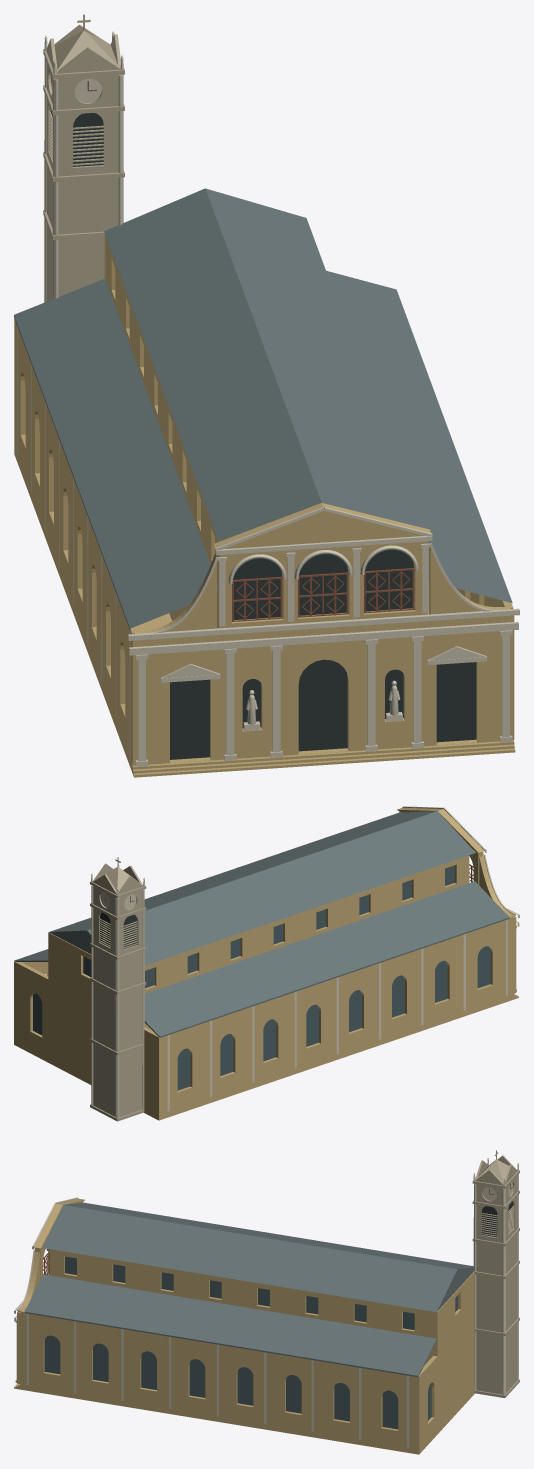
Rendered from eglise-saint-pierre-saint-paul-pointe-a-pitre-near.glb.
3 renders of one model, top to bottom at view 1: azimuth 30°, elevation 25°; view 2: azimuth 150°, elevation 25°; view 3: azimuth 270°, elevation 25°, orthographic. The views are drawn at different scales.
Parts seen in each view (by area): view 1: eglise-saint-pierre-saint-paul-pointe-a-pitre-0-roof, eglise-saint-pierre-saint-paul-pointe-a-pitre-0-plaster, eglise-saint-pierre-saint-paul-pointe-a-pitre-0-trim, eglise-saint-pierre-saint-paul-pointe-a-pitre-0-shadow, eglise-saint-pierre-saint-paul-pointe-a-pitre-0-metal, eglise-saint-pierre-saint-paul-pointe-a-pitre-0-wood; view 2: eglise-saint-pierre-saint-paul-pointe-a-pitre-0-plaster, eglise-saint-pierre-saint-paul-pointe-a-pitre-0-roof, eglise-saint-pierre-saint-paul-pointe-a-pitre-0-metal, eglise-saint-pierre-saint-paul-pointe-a-pitre-0-glass, eglise-saint-pierre-saint-paul-pointe-a-pitre-0-trim, eglise-saint-pierre-saint-paul-pointe-a-pitre-0-shadow; view 3: eglise-saint-pierre-saint-paul-pointe-a-pitre-0-plaster, eglise-saint-pierre-saint-paul-pointe-a-pitre-0-roof, eglise-saint-pierre-saint-paul-pointe-a-pitre-0-metal, eglise-saint-pierre-saint-paul-pointe-a-pitre-0-glass, eglise-saint-pierre-saint-paul-pointe-a-pitre-0-trim, eglise-saint-pierre-saint-paul-pointe-a-pitre-0-shadow.
Part boxes in pixels (left/top/right/bottom): eglise-saint-pierre-saint-paul-pointe-a-pitre-0-roof: left=14, top=188, right=512, bottom=630; eglise-saint-pierre-saint-paul-pointe-a-pitre-0-plaster: left=14, top=217, right=515, bottom=777; eglise-saint-pierre-saint-paul-pointe-a-pitre-0-trim: left=17, top=31, right=519, bottom=766; eglise-saint-pierre-saint-paul-pointe-a-pitre-0-shadow: left=50, top=110, right=476, bottom=759; eglise-saint-pierre-saint-paul-pointe-a-pitre-0-metal: left=43, top=14, right=124, bottom=301; eglise-saint-pierre-saint-paul-pointe-a-pitre-0-wood: left=51, top=75, right=414, bottom=621; eglise-saint-pierre-saint-paul-pointe-a-pitre-0-plaster: left=14, top=807, right=518, bottom=1120; eglise-saint-pierre-saint-paul-pointe-a-pitre-0-roof: left=14, top=811, right=509, bottom=1037; eglise-saint-pierre-saint-paul-pointe-a-pitre-0-metal: left=90, top=857, right=146, bottom=1121; eglise-saint-pierre-saint-paul-pointe-a-pitre-0-glass: left=33, top=865, right=490, bottom=1090; eglise-saint-pierre-saint-paul-pointe-a-pitre-0-trim: left=91, top=806, right=519, bottom=1118; eglise-saint-pierre-saint-paul-pointe-a-pitre-0-shadow: left=100, top=912, right=137, bottom=948; eglise-saint-pierre-saint-paul-pointe-a-pitre-0-plaster: left=14, top=1198, right=474, bottom=1454; eglise-saint-pierre-saint-paul-pointe-a-pitre-0-roof: left=24, top=1202, right=474, bottom=1377; eglise-saint-pierre-saint-paul-pointe-a-pitre-0-metal: left=472, top=1150, right=519, bottom=1397; eglise-saint-pierre-saint-paul-pointe-a-pitre-0-glass: left=44, top=1256, right=458, bottom=1429; eglise-saint-pierre-saint-paul-pointe-a-pitre-0-trim: left=14, top=1158, right=519, bottom=1447; eglise-saint-pierre-saint-paul-pointe-a-pitre-0-shadow: left=481, top=1201, right=513, bottom=1237.
Size of the model in its own units: 48.14 by 35 by 67.51.
